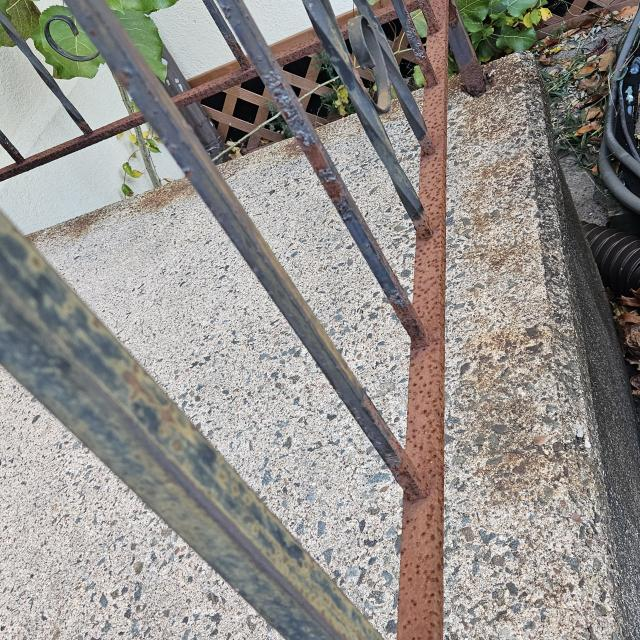Filiform Corrosion: (1, 1, 393, 640), (2, 1, 411, 470)
Uniform Corrosion: (398, 1, 466, 640)
